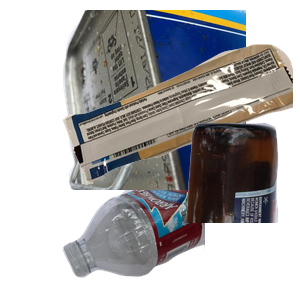glass: (87, 120, 300, 300)
metal: (60, 10, 300, 190)
plastic: (60, 190, 300, 280)
trash: (60, 42, 300, 219)
